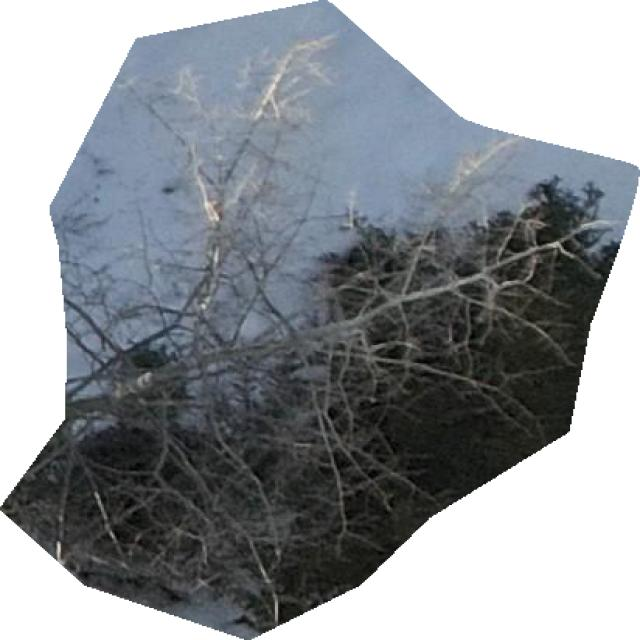trembling aspen: (3, 11, 632, 634)
